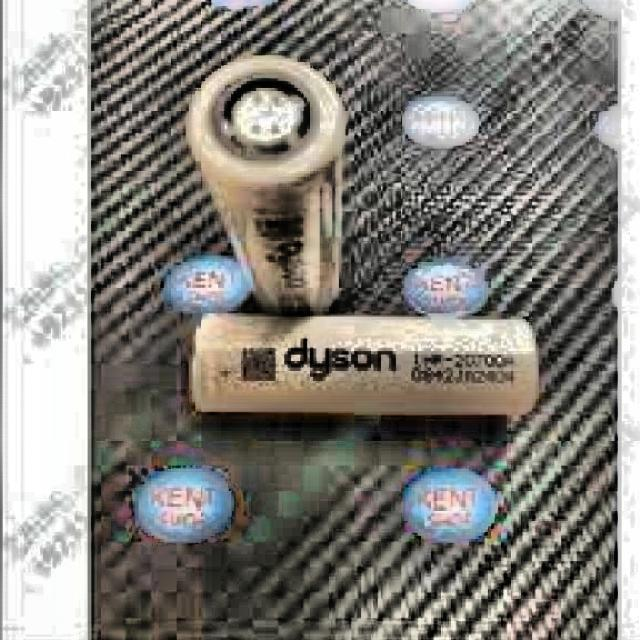battery: (186, 56, 341, 314), (192, 313, 539, 413)
